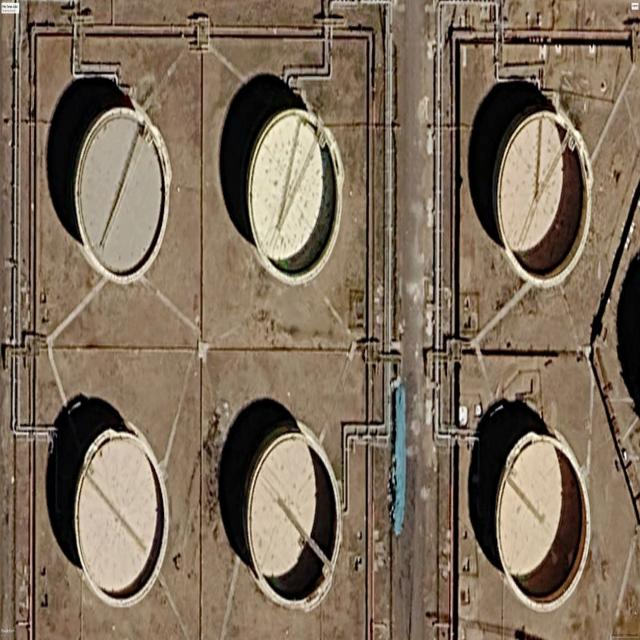Oil Rafinery: (244, 421, 342, 611), (493, 110, 592, 287), (494, 432, 591, 612), (72, 106, 171, 281), (246, 109, 343, 284), (73, 430, 168, 607)
